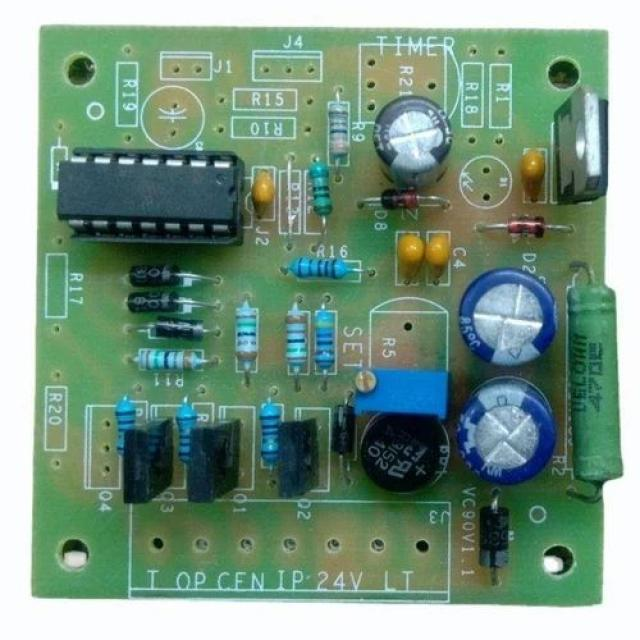pcb: (31, 23, 622, 605), (54, 144, 244, 246)
